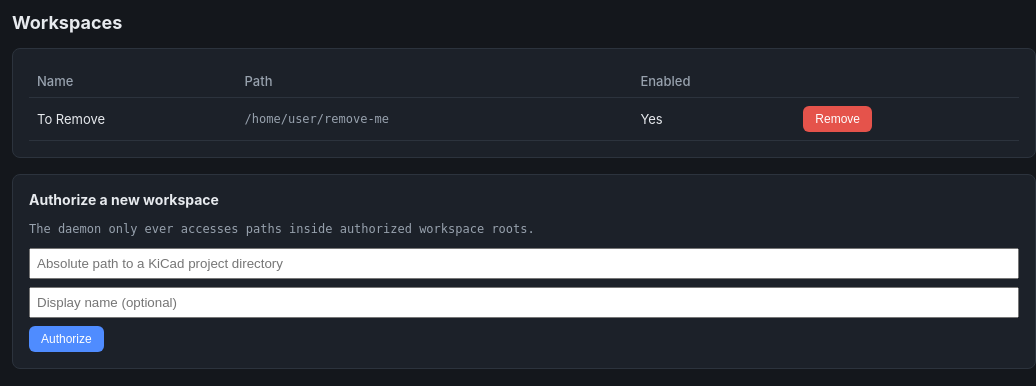
Test: WorkspacesScreen › allows removing a workspace
Expected: the text "To Remove" is shown, [29,97,237,140]
Click the button "Remove" at point(838, 119), box [803,106,872,132]
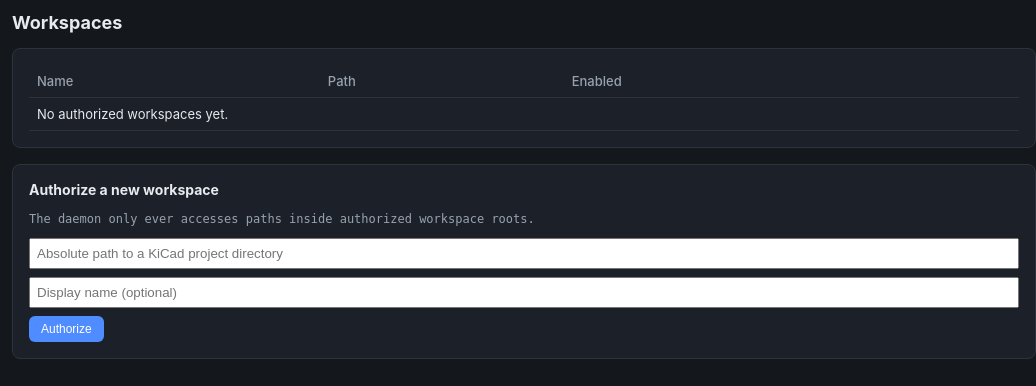
Result: the text "No authorized workspaces yet." is shown at [29,97,1019,130]
